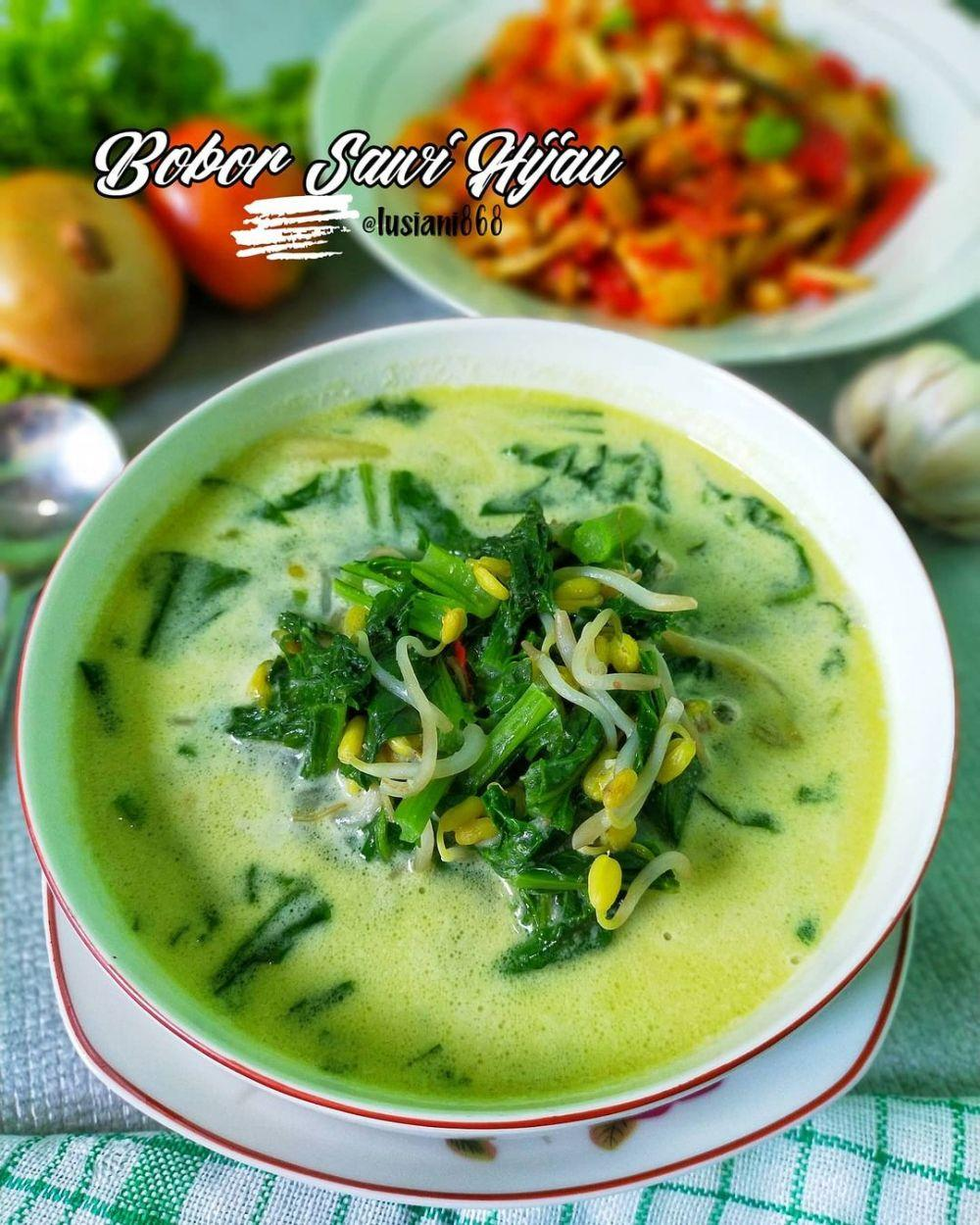buah_sayur_lainnya: (216, 452, 737, 1006)
